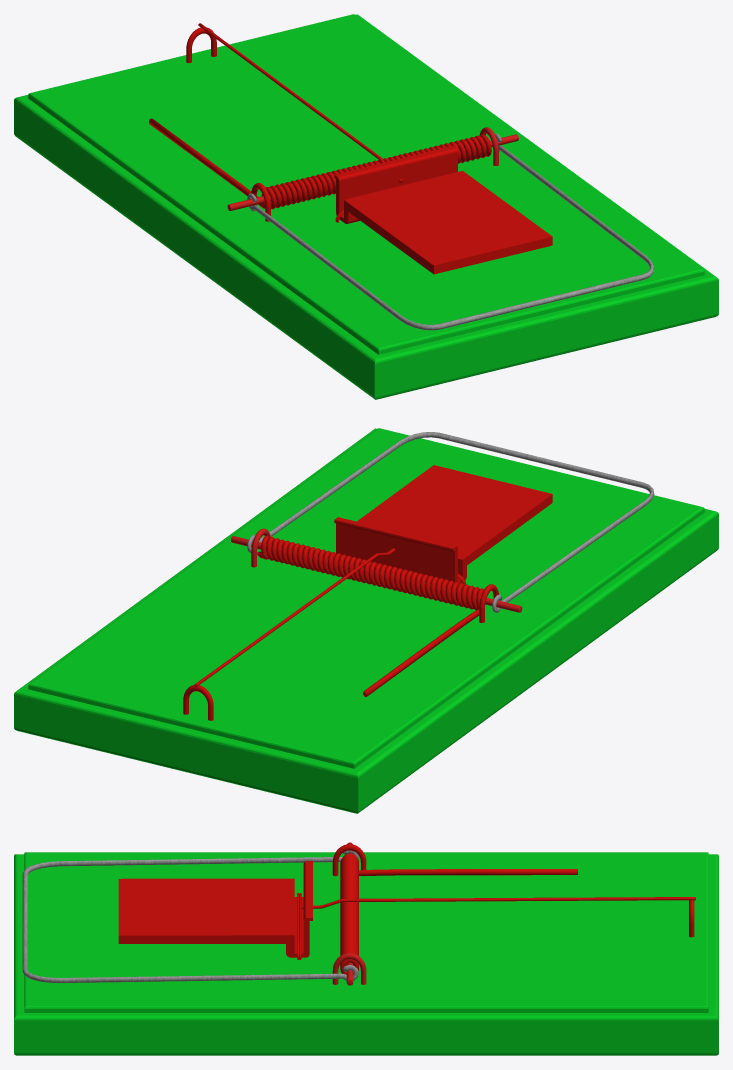
File: mousetrap.fbx
The picture shows the model from 3 angles, top to bottom: view 1: azimuth 30°, elevation 25°; view 2: azimuth 150°, elevation 25°; view 3: azimuth 270°, elevation 25°; orthographic projection. The views are drawn at different scales.
Parts seen in each view (by area): view 1: Cylinder.002, Cylinder.001; view 2: Cylinder.002, Cylinder.001; view 3: Cylinder.002, Cylinder.001.
Boxes of the visible parts, x1,y1,x2,y2 form: Cylinder.002: (14,14,718,399); Cylinder.001: (247,133,654,330); Cylinder.002: (14,428,718,813); Cylinder.001: (247,432,654,612); Cylinder.002: (14,842,718,1055); Cylinder.001: (22,850,358,982).
Size of the model in its own units: 200 by 48.55 by 363.
